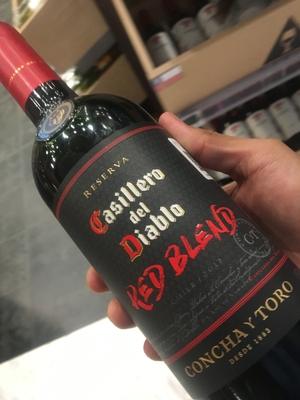casillero del diablo red blend: (2, 36, 300, 375)
